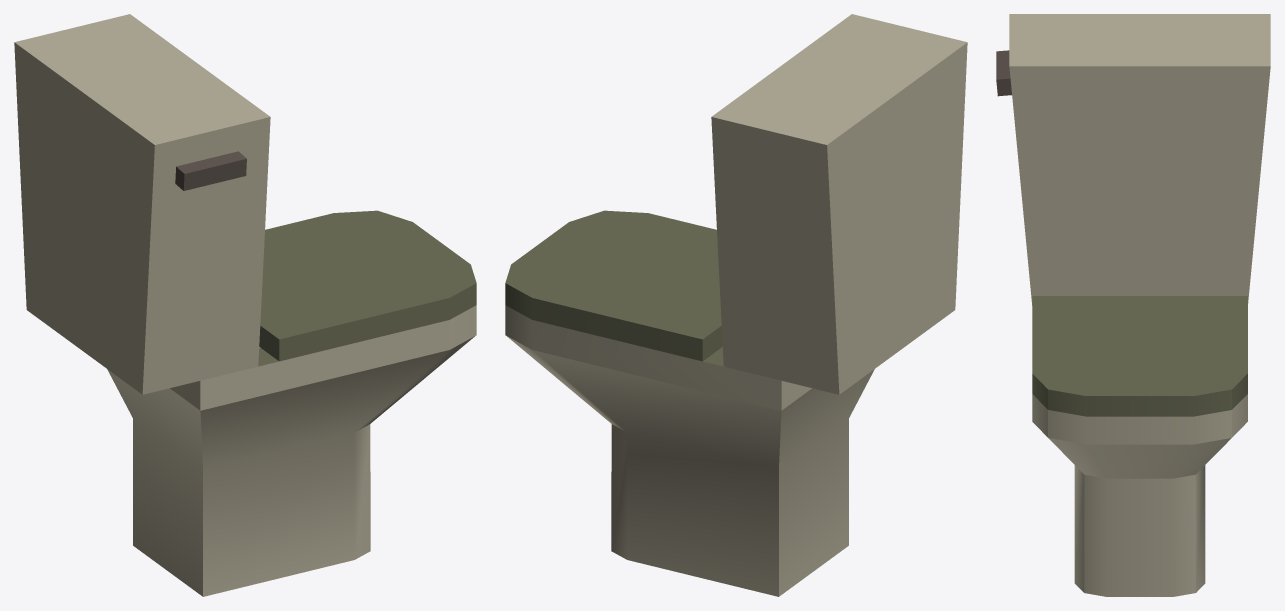
Rendered from toilet_Open.fbx.
3 renders of one model, left to right at view 1: azimuth 30°, elevation 25°; view 2: azimuth 150°, elevation 25°; view 3: azimuth 270°, elevation 25°, orthographic. The views are drawn at different scales.
Visible parts, largest first — view 1: Toilet_Bowl, Toilet_Flap, Handle; view 2: Toilet_Bowl, Toilet_Flap; view 3: Toilet_Bowl, Toilet_Flap, Handle.
Boxes of the visible parts, box(x1,y1,x2,y2) form: Toilet_Bowl: box(14, 14, 476, 596); Toilet_Flap: box(259, 210, 476, 361); Handle: box(175, 151, 246, 190); Toilet_Bowl: box(505, 14, 967, 596); Toilet_Flap: box(505, 210, 722, 361); Toilet_Bowl: box(1009, 14, 1270, 596); Toilet_Flap: box(1032, 296, 1247, 416); Handle: box(996, 50, 1011, 96).
Size of the model in its own units: 0.0233 by 0.031 by 0.0167.
1 material, 1 textured.
